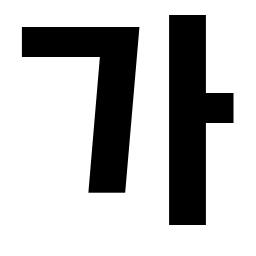Gaji: (153, 80, 222, 138)
